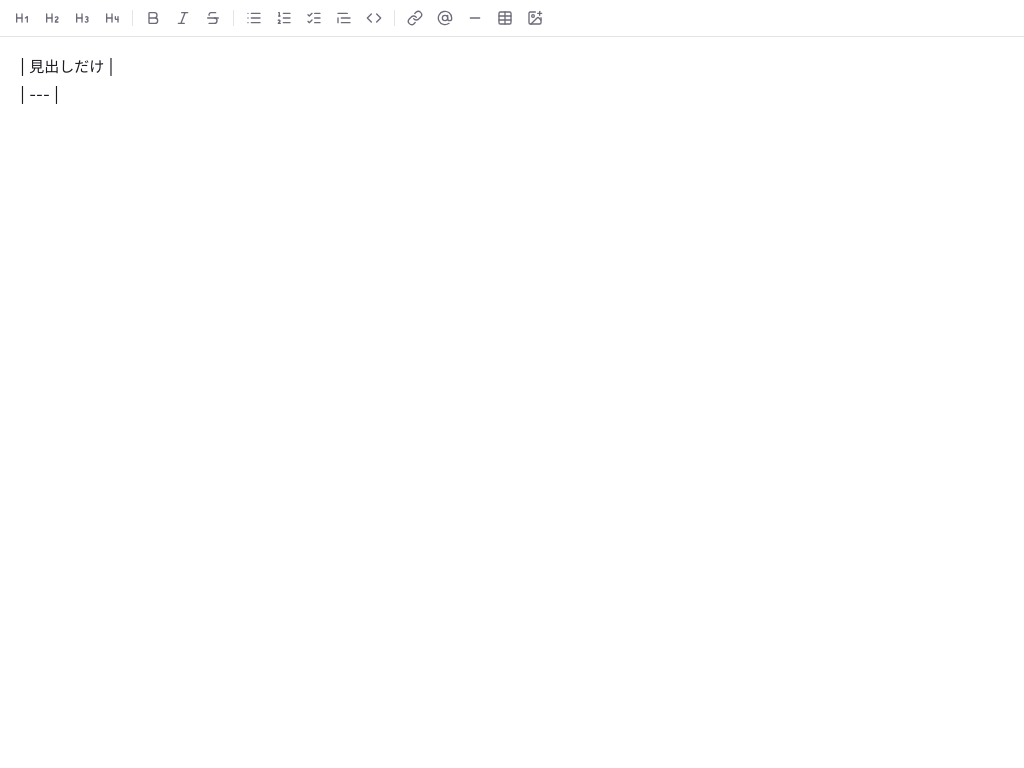
Test case: 「表」 in the canvas editor › the last column cannot be deleted; Shift+F10 in a cell opens its row menu
Click the button named "表".
click(505, 18)  # box x1=491 y1=4 x2=519 y2=32
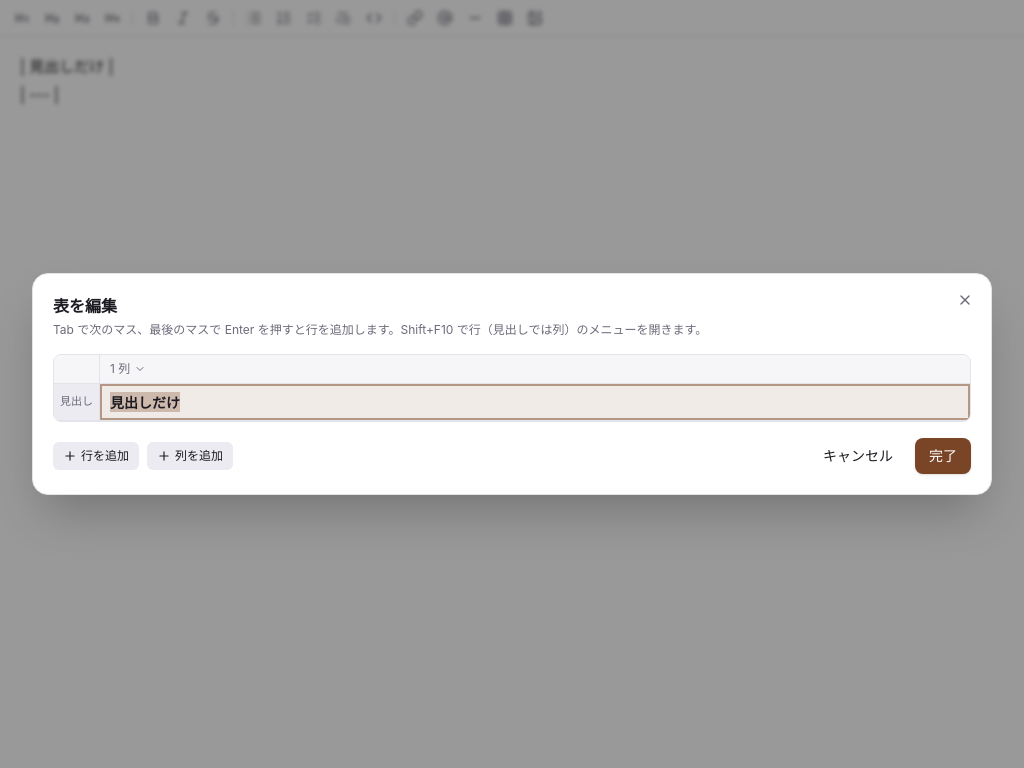
Press Enter in the button named "1 列目のメニュー", box x1=104 y1=357 x2=152 y2=381
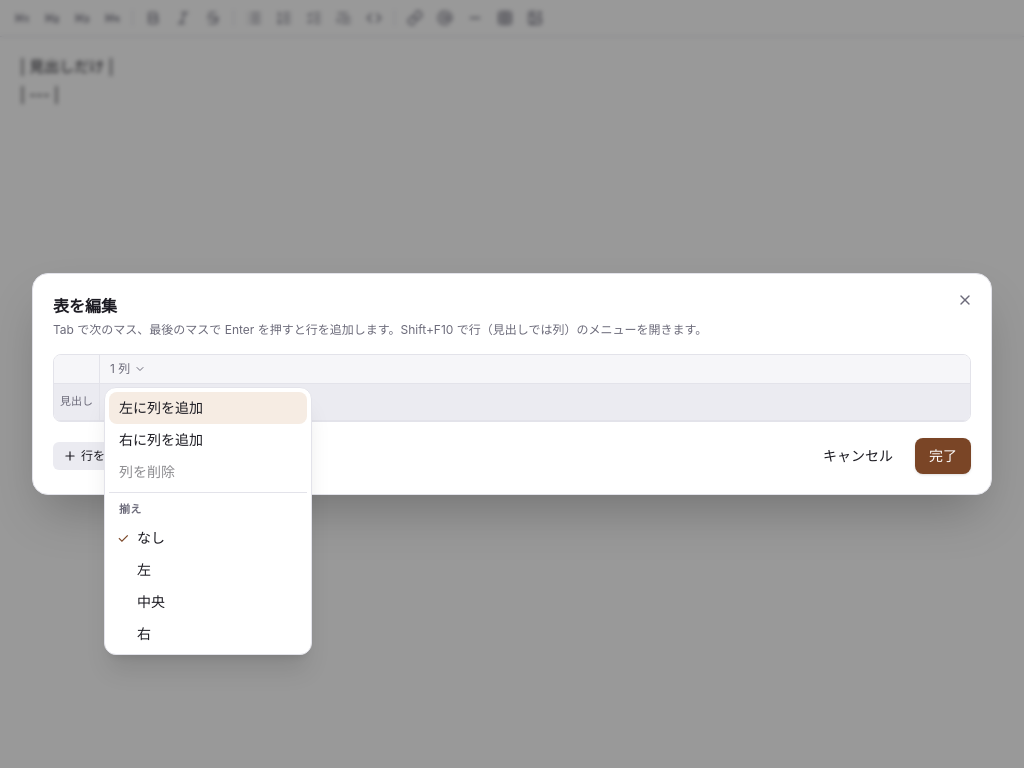
Press Escape in the menu, box x1=104 y1=387 x2=312 y2=654
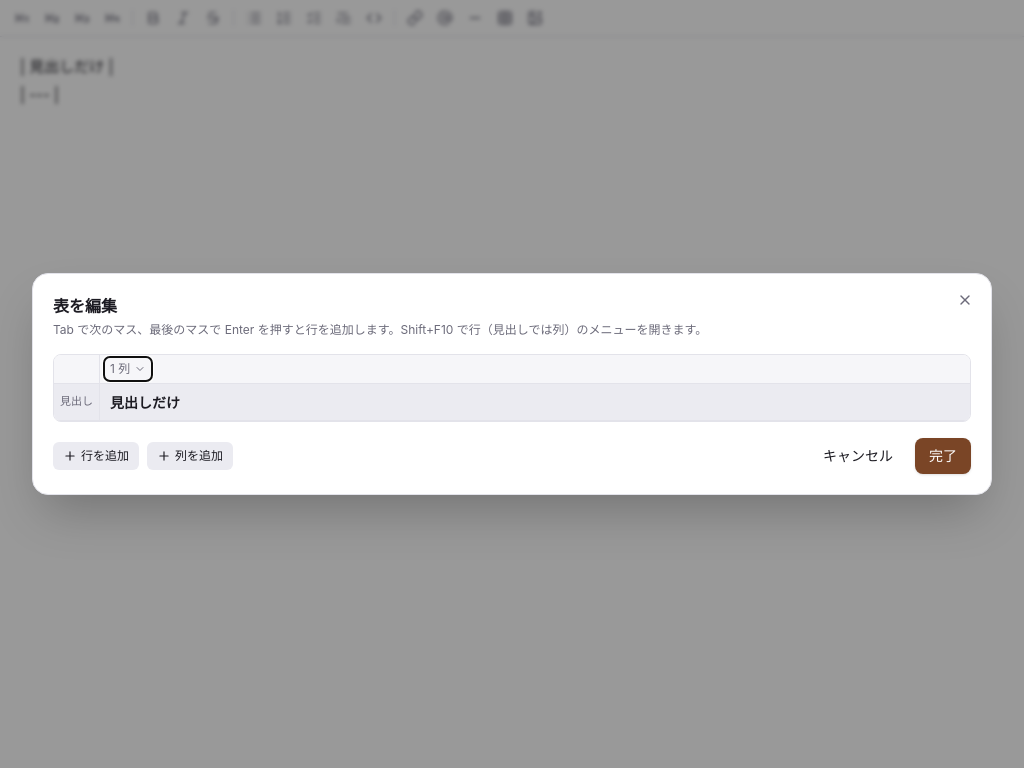
Click the button "行を追加".
click(96, 456)  # box x1=53 y1=442 x2=139 y2=470
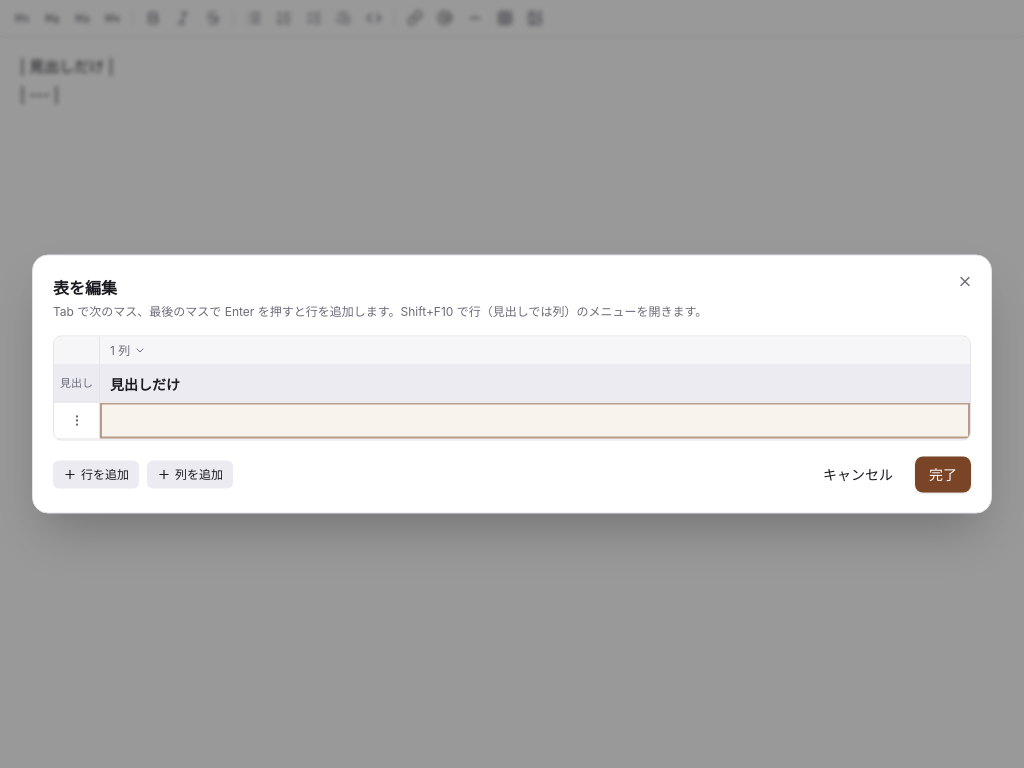
Press F10 in the field named "2 行目 1 列", box x1=100 y1=402 x2=970 y2=438
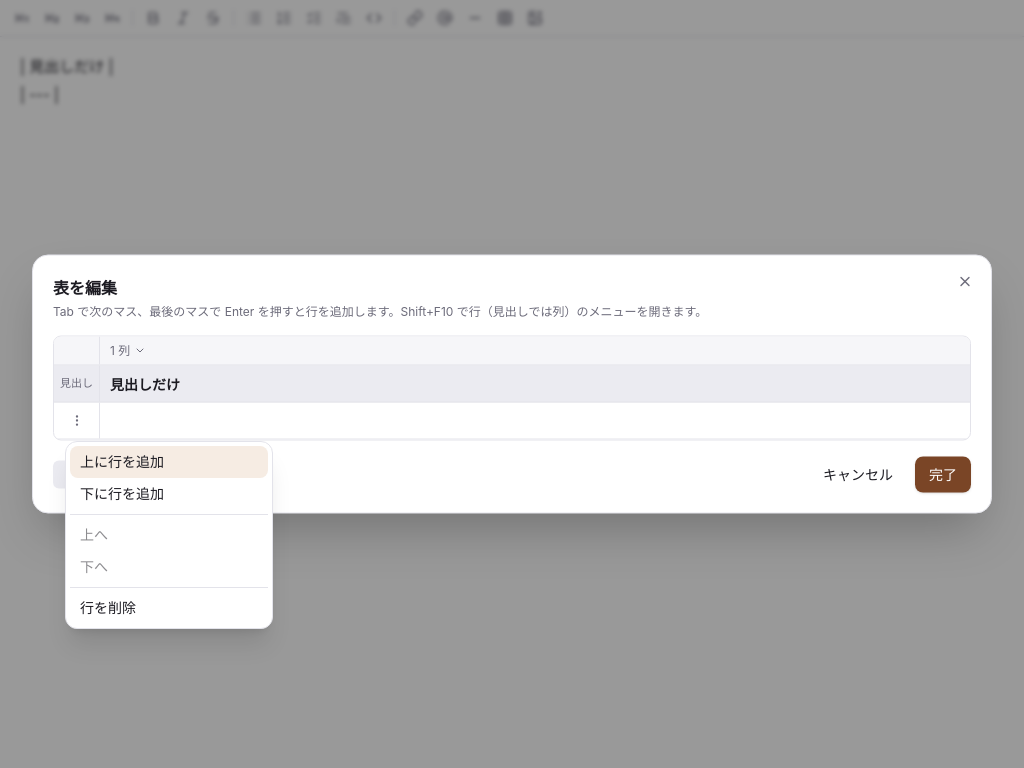
Check: the menu item "行を削除" is shown, box x1=80 y1=599 x2=136 y2=616
